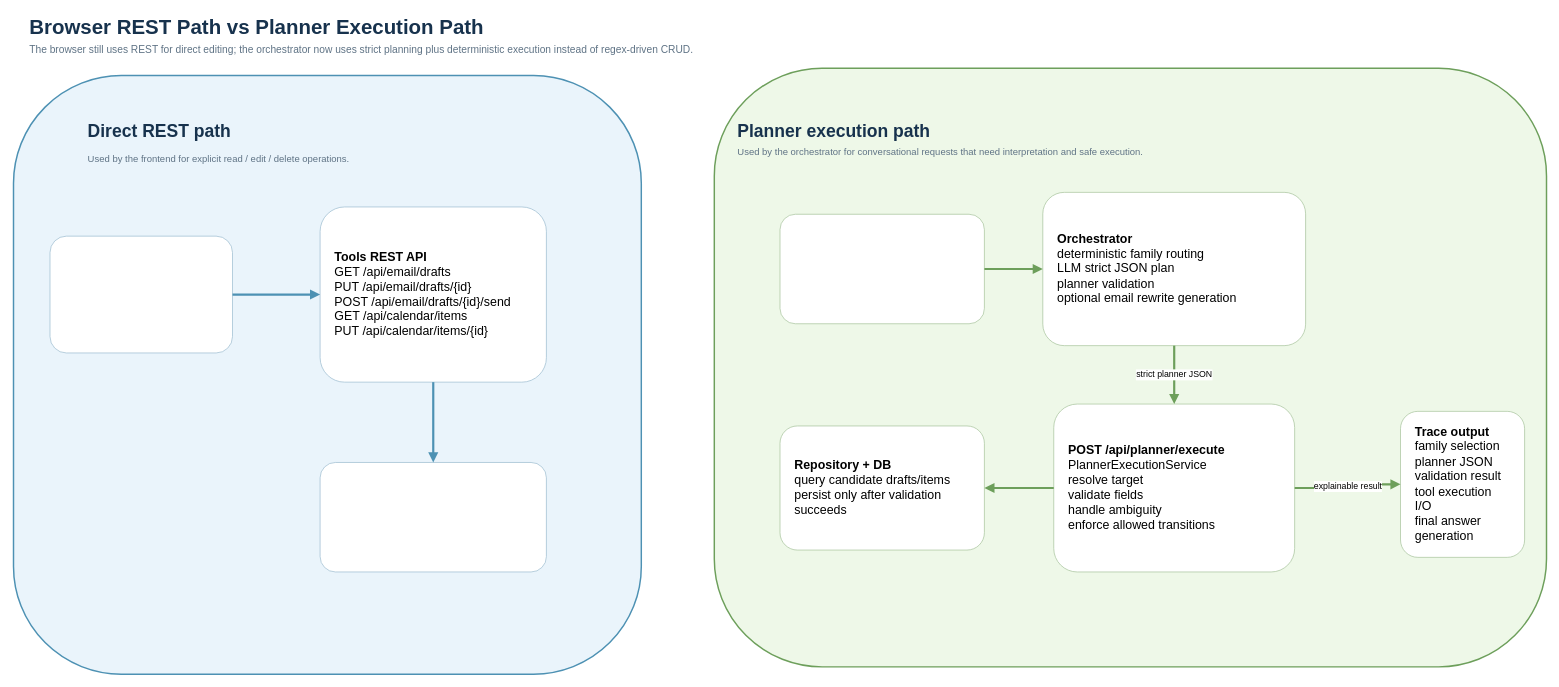
Image size: 1559x687. Some labels were removed from this diagram. Each missing label, with the centre of its shape:
Frontend UI calendar editor email draft editor contact manager: [141,294]
Repository + DB perform explicit requested mutation return updated record to UI: [432,517]
User prompt "make that email shorter and send it tomorrow at 9": [881,269]
